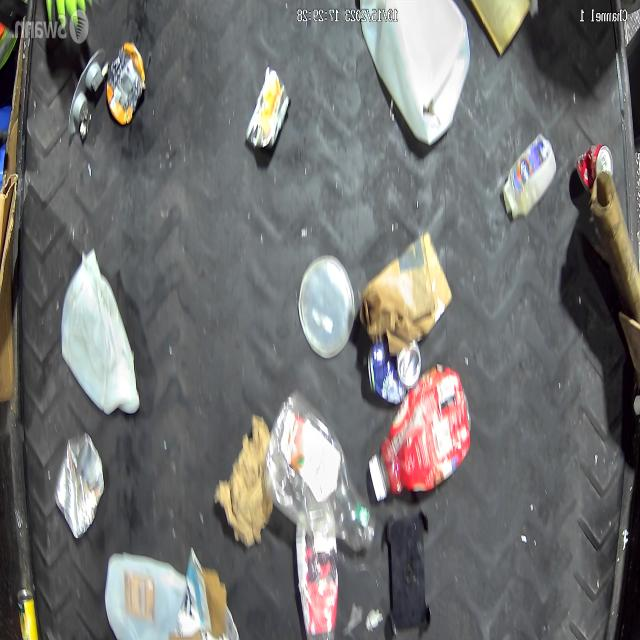can: (298, 511, 338, 640), (370, 335, 423, 416), (570, 144, 616, 207)
milk_jug: (346, 0, 468, 147), (61, 246, 143, 421), (106, 553, 192, 640)
plastic_bottle: (267, 394, 379, 548), (369, 358, 471, 510)
